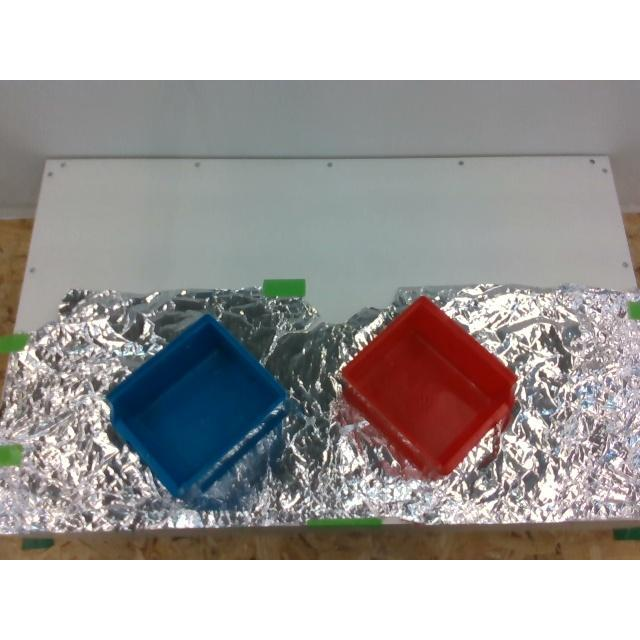container_box_blue: (108, 314, 284, 498)
container_box_red: (342, 296, 516, 478)
